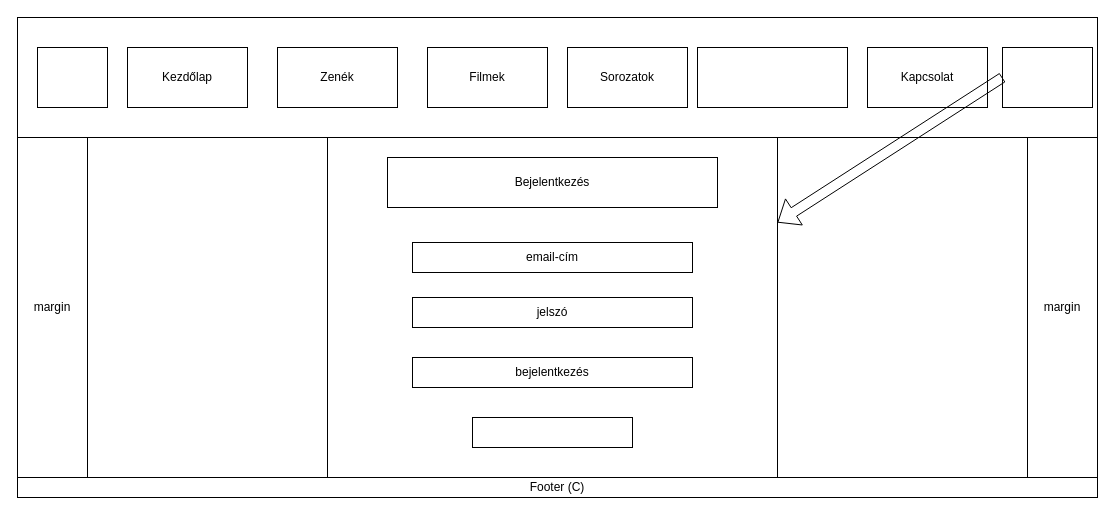
Some shapes in this 1115 by 515 pixel diagram are drawn without their labels. The box of each missing label's shape, as (x1, y1, x2, y2) in pixels:
Bej./Reg.: (1002, 46, 1092, 108)
Kosár: (696, 46, 848, 108)
Logo (opcionális): (36, 46, 108, 108)
Még nincs fiókom: (472, 416, 632, 448)
